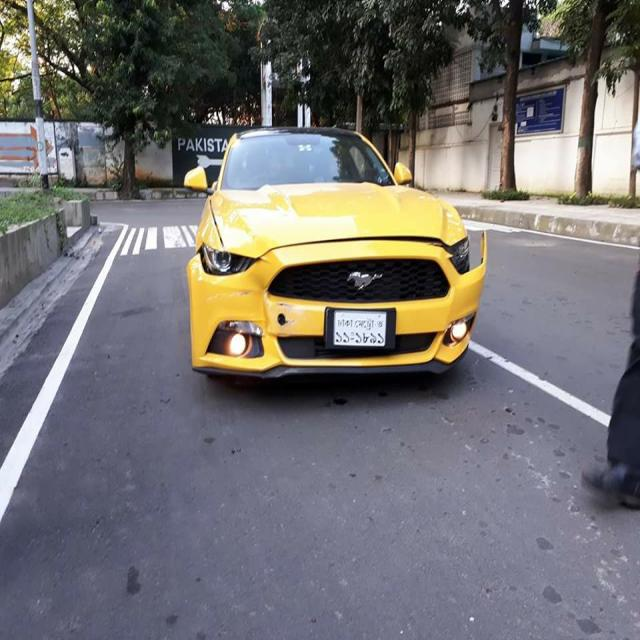numberplate: (324, 306, 394, 350)
